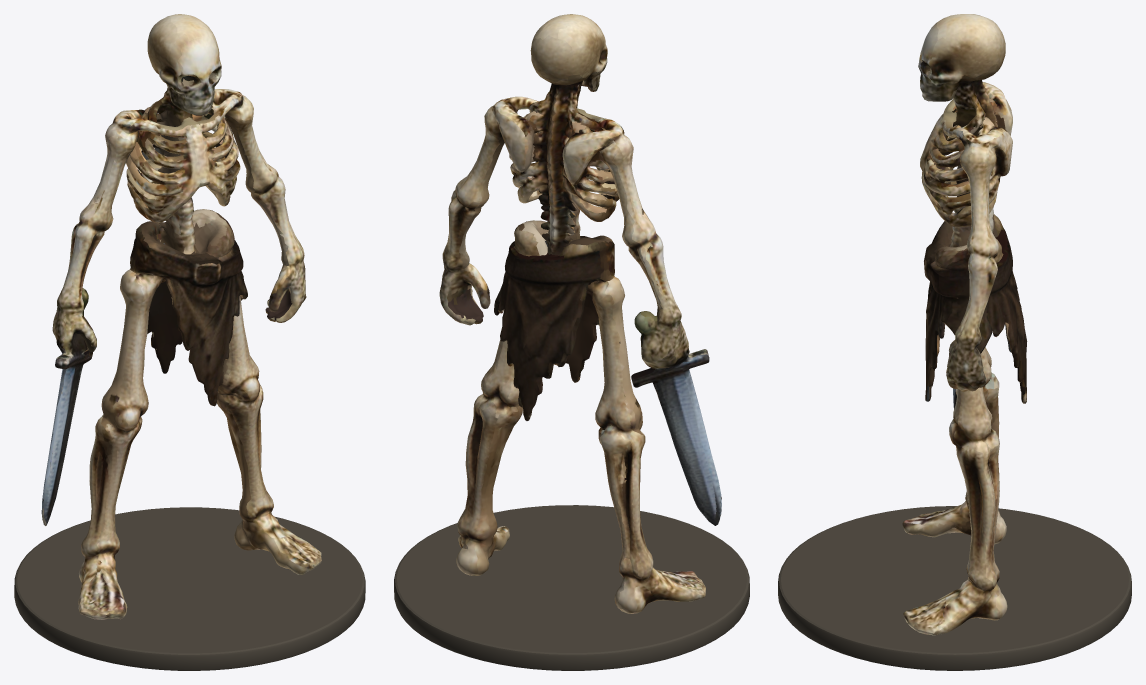
The model's file is skeleton.glb.
The picture shows the model from 3 angles, left to right: view 1: azimuth 30°, elevation 25°; view 2: azimuth 150°, elevation 25°; view 3: azimuth 270°, elevation 25°; orthographic projection.
Parts seen in each view (by area): view 1: skeleton_body, skeleton_round_base; view 2: skeleton_body, skeleton_round_base; view 3: skeleton_body, skeleton_round_base.
Boxes of the visible parts, box(x1,y1,x2,y2) form: skeleton_body: box(41, 14, 321, 619); skeleton_round_base: box(14, 507, 365, 670); skeleton_body: box(439, 14, 721, 613); skeleton_round_base: box(394, 505, 749, 670); skeleton_body: box(902, 14, 1027, 635); skeleton_round_base: box(778, 506, 1131, 670).
Bounding box in the file's own units: 1 × 1.8 × 1.
2 materials, 1 textured.
